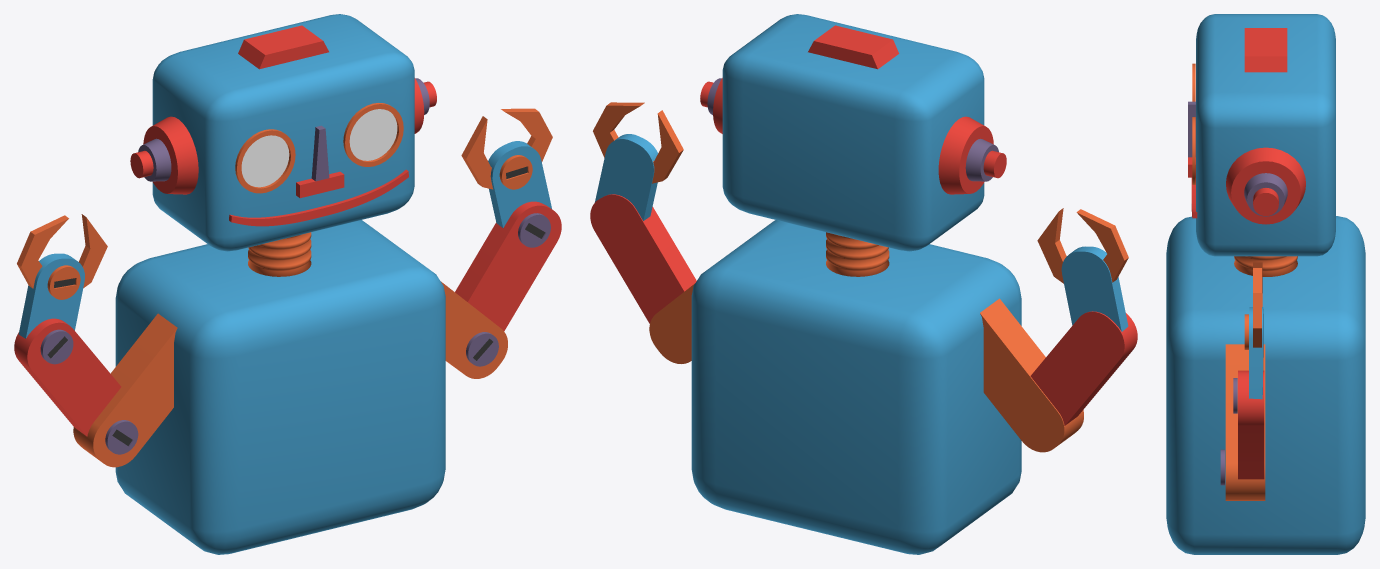
File: Robot.glb
3 renders of one model, left to right at view 1: azimuth 30°, elevation 25°; view 2: azimuth 150°, elevation 25°; view 3: azimuth 270°, elevation 25°, orthographic.
Visible parts, largest first — view 1: Cube, Cube.001, Cube.009, Cube.003, Cube.006, Cube.002, Circle, Cube.005, Cube.004; view 2: Cube, Cube.001, Cube.009, Cube.002, Circle; view 3: Cube, Cube.001, Cube.009, Cube.002, Circle, Cube.006, Cube.004, Cube.003.
Boxes of the visible parts, bbox=[...] form: Cube: bbox=[115, 220, 445, 554]; Cube.001: bbox=[152, 14, 414, 251]; Cube.009: bbox=[14, 108, 561, 467]; Cube.003: bbox=[235, 103, 403, 193]; Cube.006: bbox=[40, 155, 550, 454]; Cube.002: bbox=[130, 78, 436, 194]; Circle: bbox=[248, 232, 311, 276]; Cube.005: bbox=[229, 169, 408, 226]; Cube.004: bbox=[296, 125, 344, 198]; Cube: bbox=[691, 220, 1021, 554]; Cube.001: bbox=[722, 14, 984, 251]; Cube.009: bbox=[590, 102, 1137, 452]; Cube.002: bbox=[700, 78, 1006, 194]; Circle: bbox=[826, 232, 889, 276]; Cube: bbox=[1166, 216, 1365, 554]; Cube.001: bbox=[1196, 14, 1335, 256]; Cube.009: bbox=[1225, 262, 1265, 500]; Cube.002: bbox=[1226, 147, 1305, 224]; Circle: bbox=[1234, 256, 1297, 276]; Cube.006: bbox=[1220, 314, 1248, 485]; Cube.004: bbox=[1188, 101, 1195, 177]; Cube.003: bbox=[1192, 63, 1195, 184].
Bounding box in the file's own units: 3.78 × 3.13 × 1.22.
